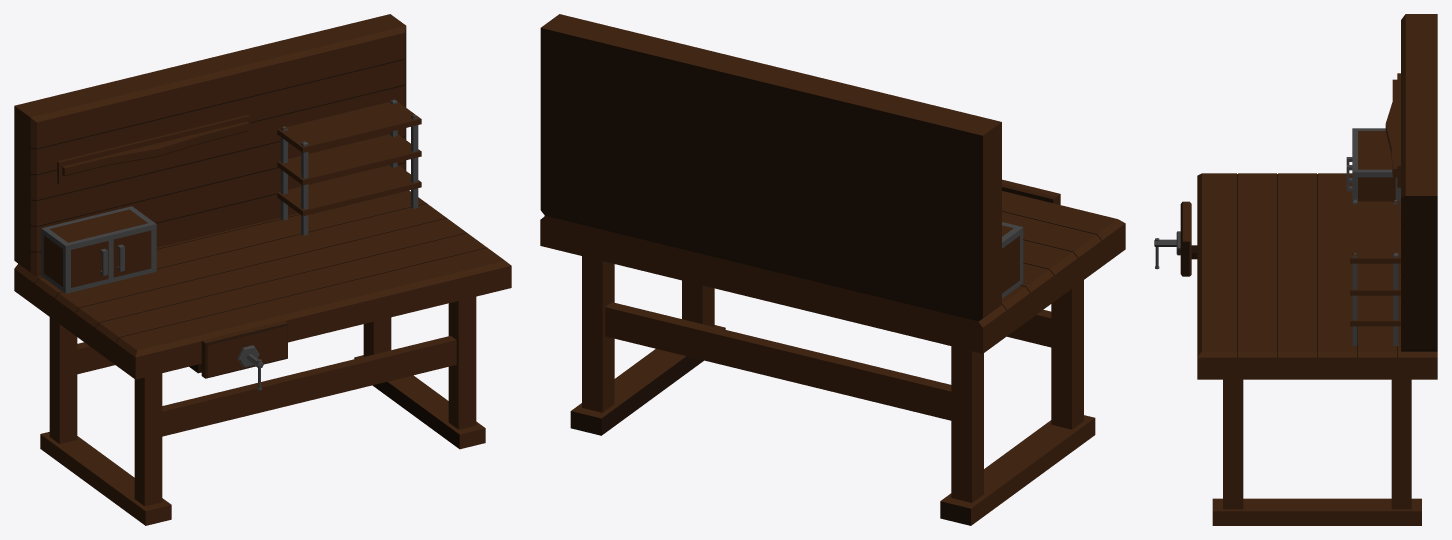
File: WorkBench01_FBX.fbx
3 views of the same model, side by side, from view 1: azimuth 30°, elevation 25°; view 2: azimuth 150°, elevation 25°; view 3: azimuth 270°, elevation 25° (orthographic). The views are drawn at different scales.
Parts seen in each view (by area): view 1: Work_Bench_2, Work_Bench_Back_2, Shelf_2, Work_Bench_Chest_2, Tool_Holder001, Vice_2; view 2: Work_Bench_Back_2, Work_Bench_2, Work_Bench_Chest_2, Vice_2; view 3: Work_Bench_2, Work_Bench_Back_2, Shelf_2, Work_Bench_Chest_2, Tool_Holder001, Vice_2.
Boxes of the visible parts, x1,y1,x2,y2 form: Work_Bench_2: (14,190,511,525); Work_Bench_Back_2: (14,14,406,276); Shelf_2: (277,99,421,235); Work_Bench_Chest_2: (41,206,156,293); Tool_Holder001: (57,114,250,184); Vice_2: (189,320,287,378); Work_Bench_Back_2: (540,14,1001,321); Work_Bench_2: (540,191,1125,525); Work_Bench_Chest_2: (1002,222,1023,298); Vice_2: (1002,179,1060,204); Work_Bench_2: (1197,173,1437,525); Work_Bench_Back_2: (1401,14,1437,351); Shelf_2: (1350,199,1400,346); Work_Bench_Chest_2: (1346,128,1400,218); Tool_Holder001: (1385,73,1400,187); Vice_2: (1180,201,1197,276).
Size of the model in its own units: 226 by 196 by 149.
